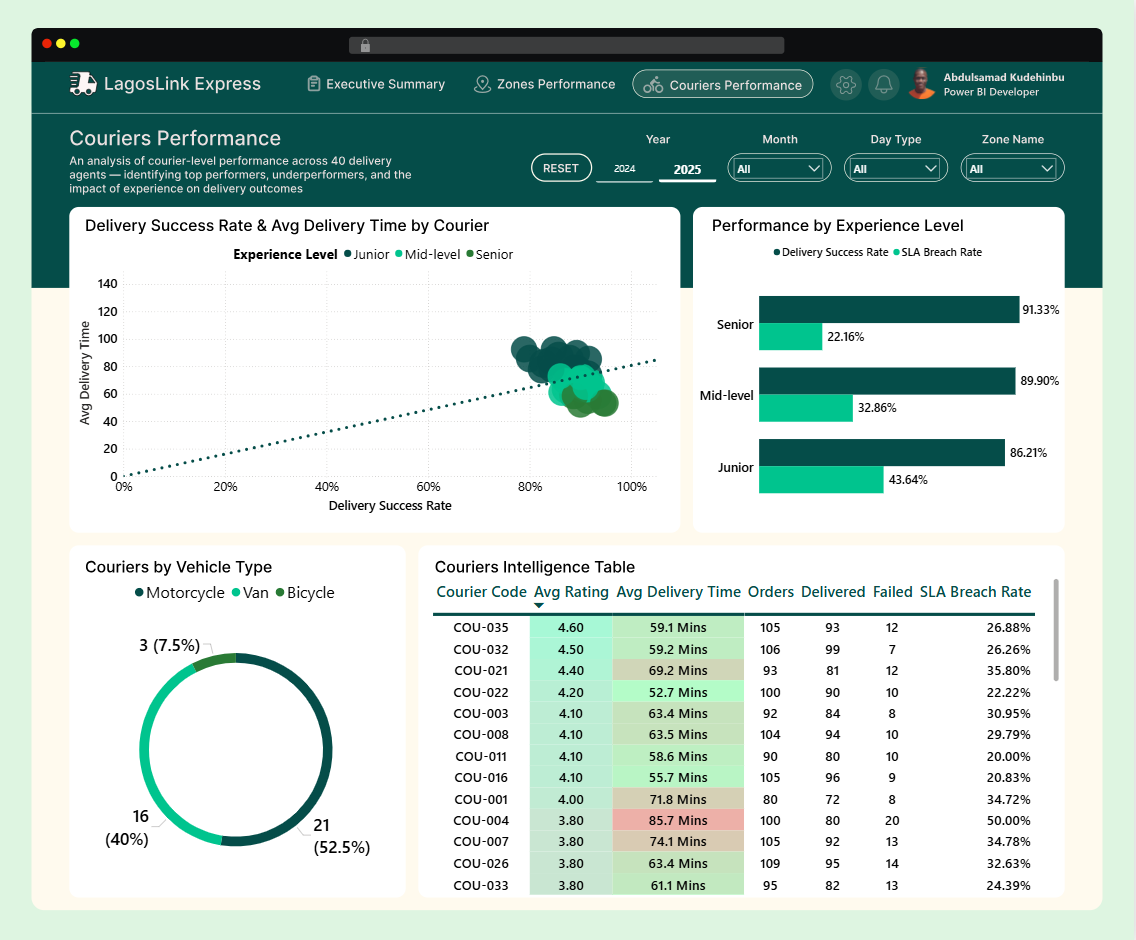

Layout of this report page (visuals, bound fields, positions):
{"tool":"powerbi","page":{"name":"Couriers Performance","canvas":[1800,1500],"ordinal":2},"visuals":[{"type":"slicer","fields":{"Values":["dim_date.month_name_short"]},"box":[1154.2,241.5,161.7,48.7],"z":0},{"type":"advancedSlicerVisual","fields":{"Values":["dim_date.year"]},"box":[941.6,237,203.8,57.6],"z":1000},{"type":"slicer","fields":{"Values":["dim_date.day_type"]},"box":[1340,241.5,162.5,48.8],"z":2000},{"type":"slicer","fields":{"Values":["dim_zone.zone_name"]},"box":[1523.8,241.2,162.5,48.8],"z":3000},{"type":"scatterChart","fields":{"X":["_Measures.DELIVERY SUCCESS RATE"],"Y":["_Measures.AVG DELIVERY TIME"],"Size":["_Measures.TOTAL ORDERS"],"Series":["dim_courier.experience_level"],"Category":["dim_courier.courier_code"]},"box":[120.1,378.3,953.5,442.2],"z":4000},{"type":"clusteredBarChart","fields":{"Category":["dim_courier.experience_level"],"Y":["_Measures.DELIVERY SUCCESS RATE","_Measures.SLA BREACH RATE"]},"box":[1104.3,378.3,582.8,460.1],"z":5000},{"type":"tableEx","fields":{"Values":["dim_courier.courier_code","_Measures.AVG COURIER RATING","_Measures.AVG DELIVERY TIME TEXT","_Measures.TOTAL ORDERS","_Measures.SUCCESSFUL DELIVERIES","_Measures.FAILED DELIVERIES","_Measures.SLA BREACH RATE"]},"box":[682.5,915.1,1004.6,511.3],"z":6000},{"type":"donutChart","fields":{"Y":["_Measures.TOTAL COURIERS"],"Category":["dim_courier.vehicle_type"]},"box":[120.1,915.1,511.3,511.3],"z":7000},{"type":"actionButton","box":[465.2,104.8,263.3,53.7],"z":7001},{"type":"actionButton","box":[741.3,104.8,258.2,53.7],"z":7002},{"type":"actionButton","box":[1009.7,104.8,273.5,53.7],"z":7003},{"type":"actionButton","box":[835.9,237.7,109.9,58.8],"z":7004}]}

Visuals, with their boxes on the page's 1800x1500 design canvas (x1, y1, x2, y2). These are canvas units, not pixel positions in the 1136x940 screenshot, which may show the page scaled, cropped or inside an application window:
slicer - dim_date.month_name_short: (left=1154, top=242, right=1316, bottom=290)
advancedSlicerVisual - dim_date.year: (left=942, top=237, right=1145, bottom=295)
slicer - dim_date.day_type: (left=1340, top=242, right=1502, bottom=290)
slicer - dim_zone.zone_name: (left=1524, top=241, right=1686, bottom=290)
scatterChart - _Measures.DELIVERY SUCCESS RATE x _Measures.AVG DELIVERY TIME: (left=120, top=378, right=1074, bottom=820)
clusteredBarChart - dim_courier.experience_level x _Measures.DELIVERY SUCCESS RATE: (left=1104, top=378, right=1687, bottom=838)
tableEx - dim_courier.courier_code x _Measures.AVG COURIER RATING: (left=682, top=915, right=1687, bottom=1426)
donutChart - _Measures.TOTAL COURIERS x dim_courier.vehicle_type: (left=120, top=915, right=631, bottom=1426)
actionButton: (left=465, top=105, right=728, bottom=158)
actionButton: (left=741, top=105, right=1000, bottom=158)
actionButton: (left=1010, top=105, right=1283, bottom=158)
actionButton: (left=836, top=238, right=946, bottom=296)
